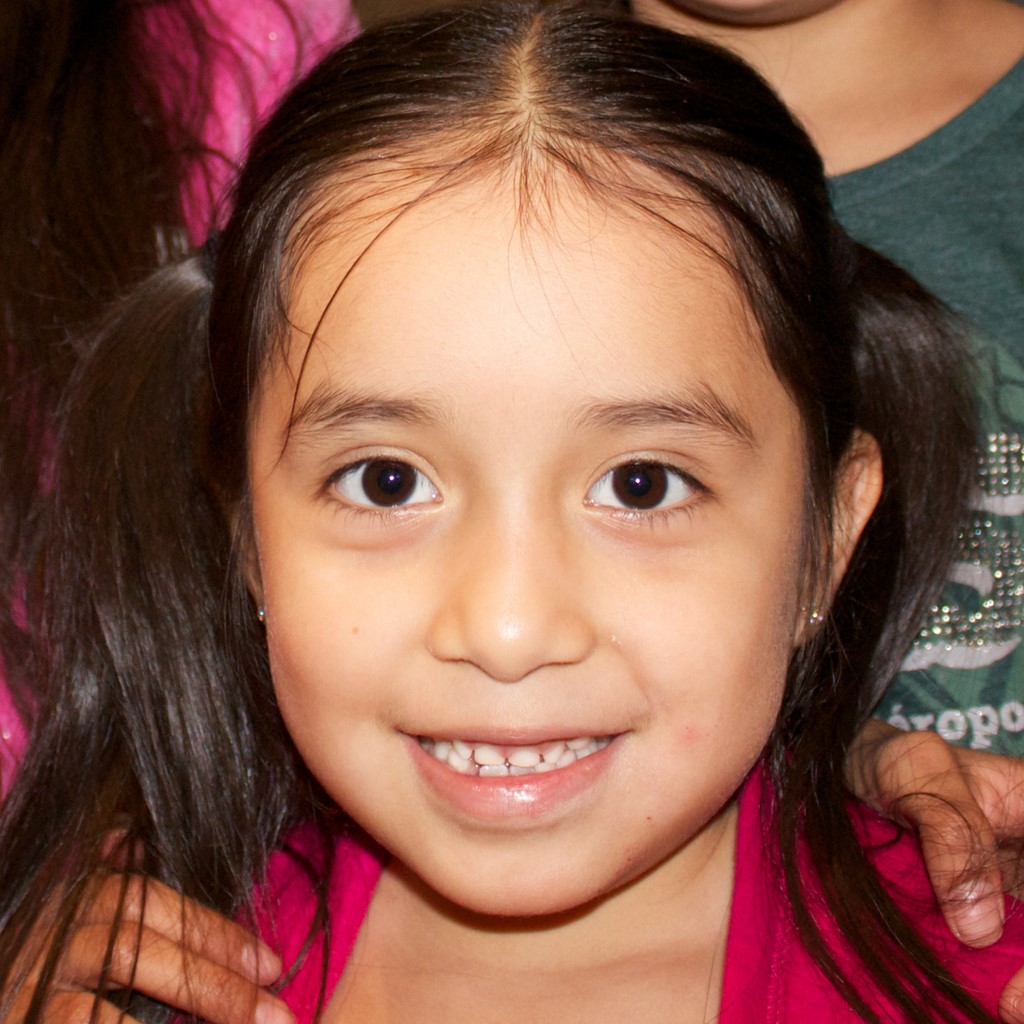sin_mascara: (244, 157, 821, 905)
